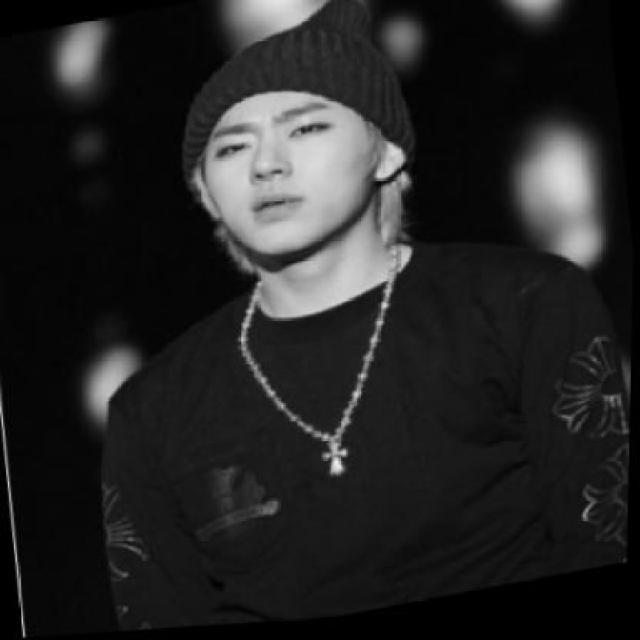hat: (164, 0, 418, 206)
